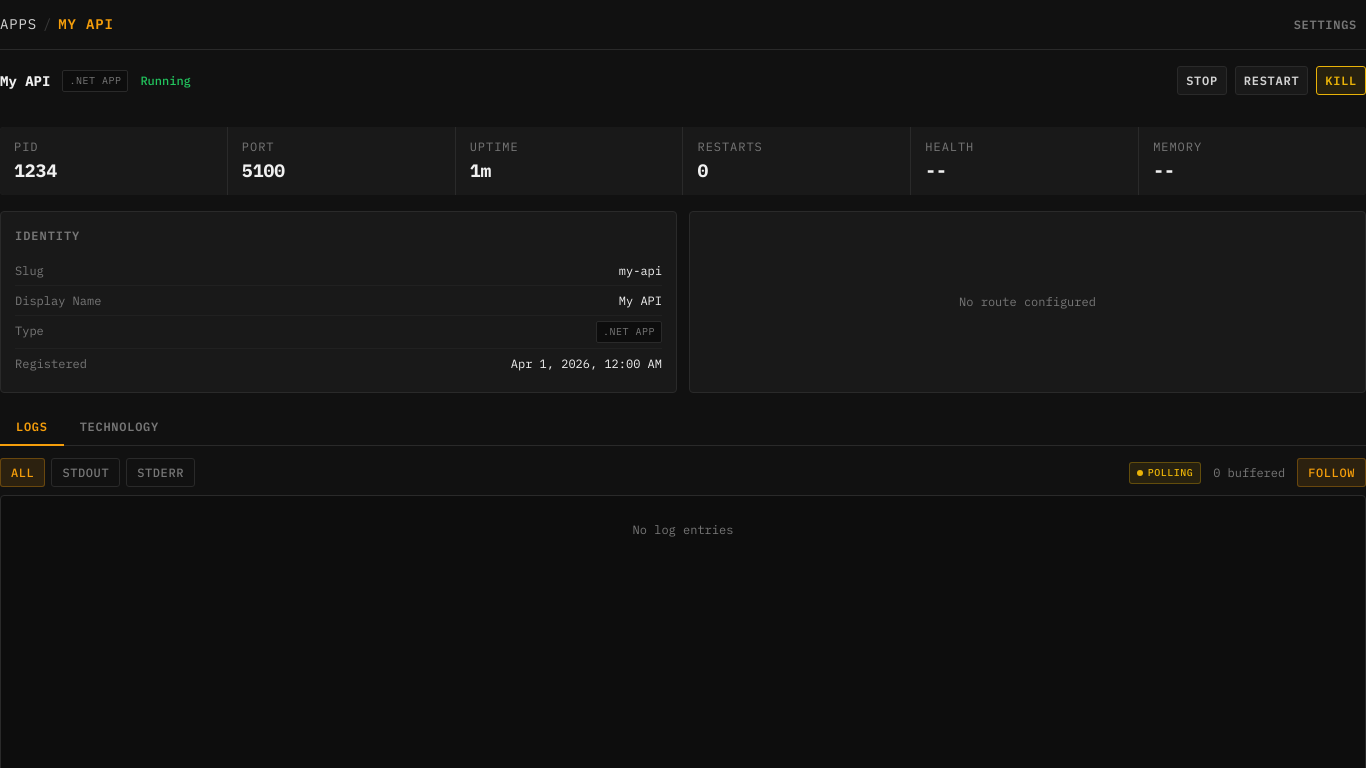
Scenario: AppDetailPage Kill confirm (FE-UI-04) › clicking Kill does NOT immediately mutate — it opens a confirm dialog
Click the button "Kill": (1341, 81) [1316,66,1365,95]
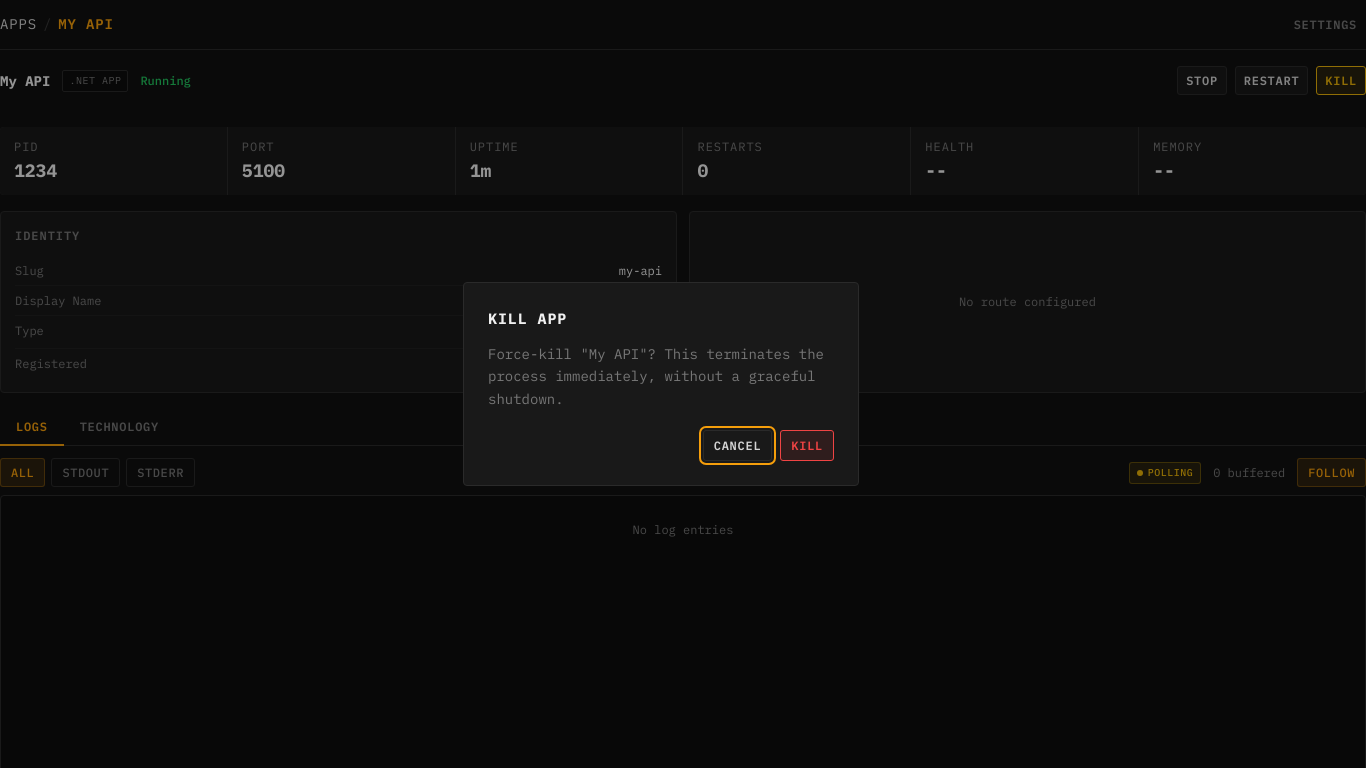
Now the text "Kill App" is shown, box [488,309,567,328]
Now the text "Force-kill \"My API\"" is shown, box [488,345,824,408]
